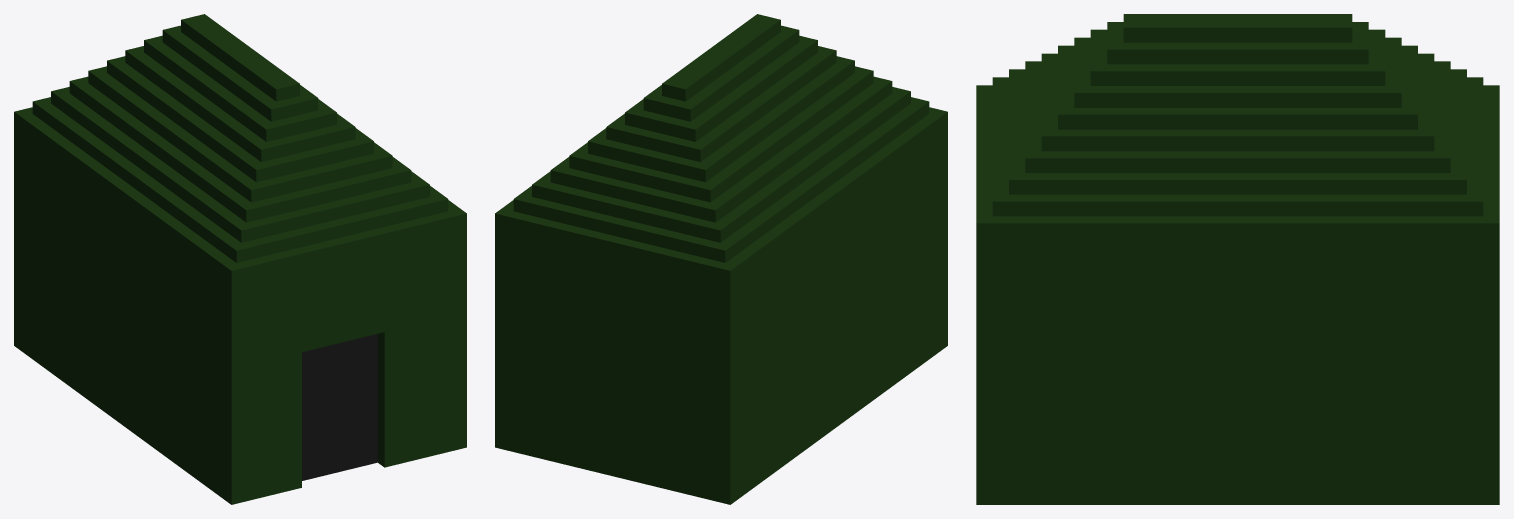
File: госпитоль.obj
3 views of the same model, side by side, from view 1: azimuth 30°, elevation 25°; view 2: azimuth 150°, elevation 25°; view 3: azimuth 270°, elevation 25° (orthographic). The views are drawn at different scales.
Size of the model in its own units: 2 by 2.8 by 3.2.
1 material, 1 textured.
